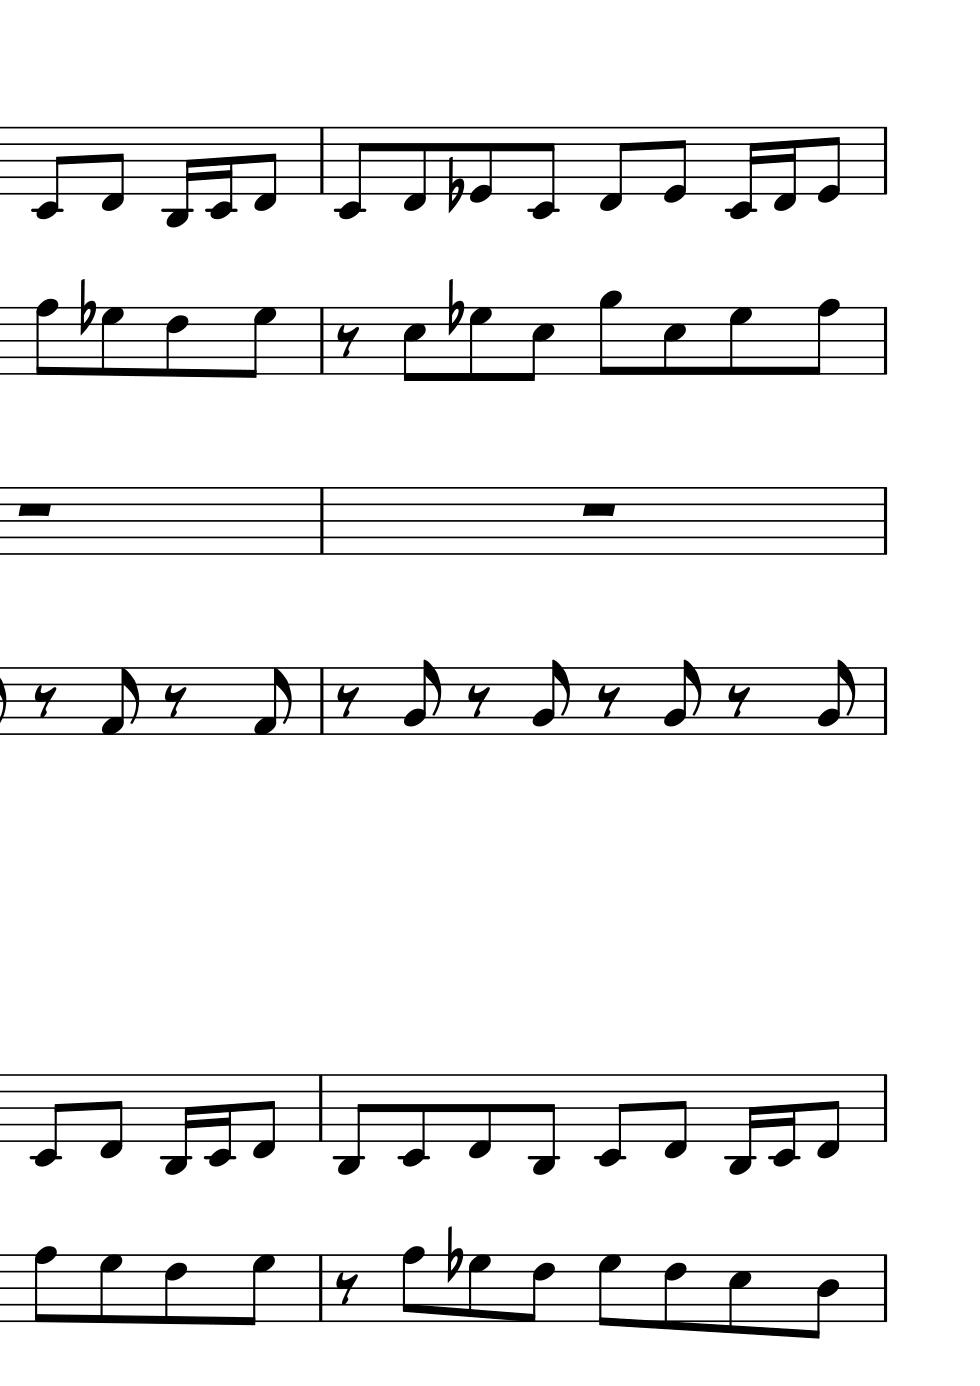16_-1: (772, 125, 797, 213)
16_-2: (725, 125, 758, 222), (205, 1073, 233, 1171), (768, 1074, 797, 1172), (206, 126, 234, 223)
16_-3: (724, 1073, 758, 1179), (160, 1072, 193, 1178), (161, 125, 194, 230)
8_-1: (596, 125, 630, 214), (465, 1073, 494, 1163), (400, 125, 428, 215), (97, 1073, 125, 1162), (661, 1073, 689, 1162), (99, 126, 126, 215), (815, 1073, 841, 1162), (252, 126, 278, 215), (251, 1073, 277, 1162)
8_-2: (31, 125, 68, 221), (333, 125, 370, 220), (29, 1073, 66, 1168), (593, 1072, 629, 1169), (396, 1073, 428, 1170), (527, 125, 559, 220)
8_-3: (332, 1073, 367, 1177), (527, 1073, 558, 1177)
8_0: (661, 126, 689, 206), (815, 126, 842, 205), (468, 126, 494, 205)
8_1: (99, 666, 141, 738), (251, 666, 293, 738)
8_2: (530, 657, 570, 736), (402, 659, 441, 736), (662, 659, 701, 736), (816, 659, 854, 736)
8_3: (727, 1253, 752, 1336)
8_4: (804, 1253, 838, 1341)
8_5: (521, 305, 555, 383), (401, 305, 426, 384), (661, 305, 687, 378)
8_6: (523, 1253, 555, 1324), (661, 1252, 687, 1332), (164, 305, 189, 379), (162, 1252, 187, 1326)
8_7: (241, 1252, 275, 1327), (242, 305, 276, 379), (466, 305, 492, 383), (596, 1252, 622, 1328), (727, 305, 753, 378), (97, 1253, 123, 1324), (99, 305, 124, 378), (466, 1253, 491, 1323)
8_8: (804, 297, 838, 378), (31, 1245, 57, 1324), (399, 1245, 425, 1324), (33, 297, 58, 378)
8_9: (597, 290, 622, 376)
Flat: (445, 276, 463, 338), (77, 276, 95, 337), (445, 155, 463, 215), (444, 1224, 462, 1284)
Rests1: (13, 499, 56, 519), (577, 499, 619, 519)
Rests4: (31, 682, 59, 719), (161, 682, 188, 719)
Rests8: (463, 683, 491, 718), (594, 683, 622, 718), (724, 683, 751, 718), (334, 683, 360, 718), (333, 1271, 358, 1306), (334, 324, 360, 358)
Single_barline: (312, 1255, 329, 1320), (313, 669, 330, 733), (877, 128, 893, 194), (877, 488, 893, 554), (878, 1255, 893, 1322), (878, 308, 893, 374), (877, 668, 892, 734), (878, 1074, 892, 1144), (315, 489, 329, 552), (316, 1075, 323, 1138)
